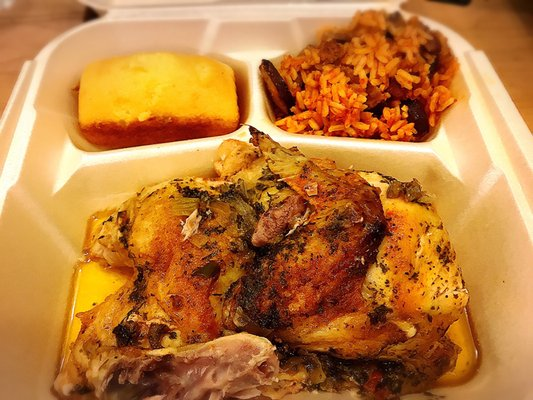soup: (62, 127, 474, 400), (73, 51, 240, 150)
sushi: (257, 10, 465, 176)
